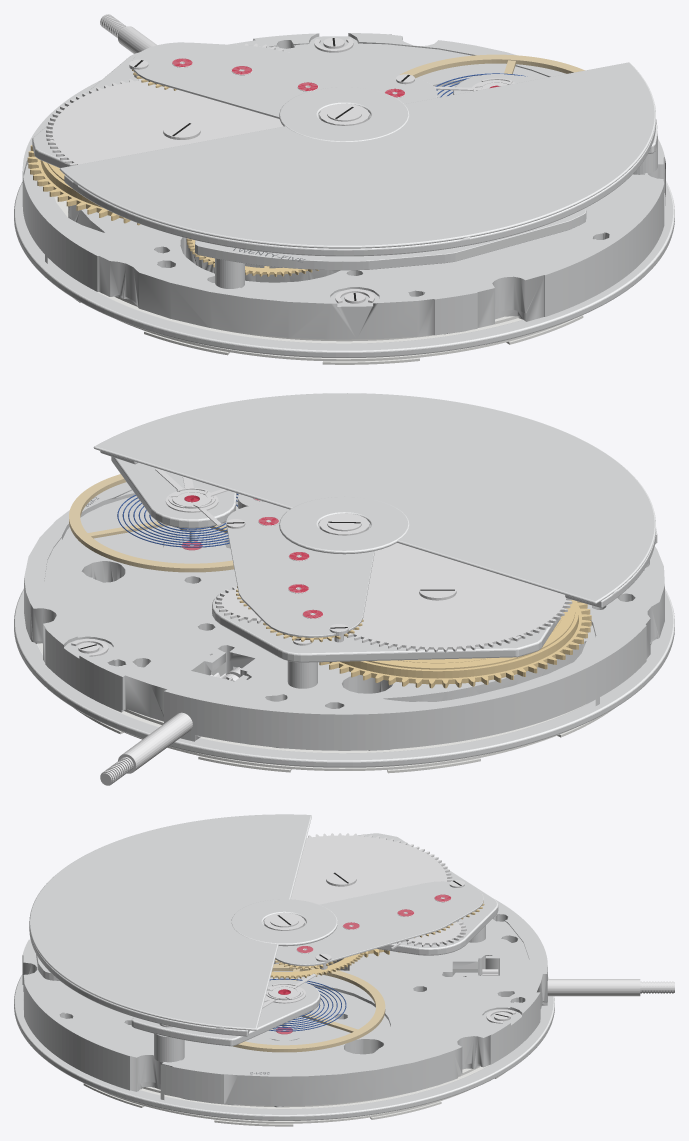
The model's file is eta-c07651-grande-date.glb.
3 views of the same model, one above another, from view 1: azimuth 30°, elevation 25°; view 2: azimuth 150°, elevation 25°; view 3: azimuth 270°, elevation 25° (orthographic). The views are drawn at different scales.
Visible parts, largest first — view 1: 31-1 Masse oscillante, 1 Platine, 25 Bâti du dispositif automatique, 42 Support de cadran, 20 Rochet, 13 Pont de rouage, GD-7 Disque des dizaines, 23 Balancier réglé avec piton, 14 Barillet complet (tambour), 16 Pont de barillet, GD-12 Disque des unités, 4 Tige de remontoir (+4 smaller); view 2: 31-1 Masse oscillante, 1 Platine, 20 Rochet, 25 Bâti du dispositif automatique, 42 Support de cadran, 16 Pont de barillet, 14 Barillet complet (tambour), 24-1 Pont de balancier, 23 Balancier réglé avec piton, GD-7 Disque des dizaines, 4 Tige de remontoir, 14 Couvercle de barillet (+4 smaller); view 3: 1 Platine, 31-1 Masse oscillante, 25 Bâti du dispositif automatique, 42 Support de cadran, 20 Rochet, 24-1 Pont de balancier, 23 Balancier réglé avec piton, 4 Tige de remontoir, 16 Pont de barillet, GD-7 Disque des dizaines, 23 Spiral, 19 Roue de couronne (+2 smaller).
Part boxes in pixels (x1,y1,x2,y2): 31-1 Masse oscillante: (59,62,656,256); 1 Platine: (22,33,665,339); 25 Bâti du dispositif automatique: (133,42,437,118); 42 Support de cadran: (14,181,674,357); 20 Rochet: (46,79,283,166); 13 Pont de rouage: (195,208,586,270); GD-7 Disque des dizaines: (98,292,570,361); 23 Balancier réglé avec piton: (400,54,584,78); 14 Barillet complet (tambour): (27,145,140,225); 16 Pont de barillet: (32,45,286,168); GD-12 Disque des unités: (75,299,583,364); 4 Tige de remontoir: (100,14,156,53); 31-1 Masse oscillante: (93,393,655,607); 1 Platine: (24,482,664,750); 20 Rochet: (347,543,572,652); 25 Bâti du dispositif automatique: (226,504,374,637); 42 Support de cadran: (14,589,674,767); 16 Pont de barillet: (212,586,564,662); 14 Barillet complet (tambour): (319,600,591,688); 24-1 Pont de balancier: (111,456,236,528); 23 Balancier réglé avec piton: (69,474,234,572); GD-7 Disque des dizaines: (38,642,651,770); 4 Tige de remontoir: (100,712,192,785); 14 Couvercle de barillet: (366,600,575,669); 1 Platine: (22,899,547,1107); 31-1 Masse oscillante: (29,814,337,1036); 25 Bâti du dispositif automatique: (263,881,483,966); 42 Support de cadran: (14,974,554,1120); 20 Rochet: (291,833,452,904); 24-1 Pont de balancier: (131,979,320,1046); 23 Balancier réglé avec piton: (233,964,385,1052); 4 Tige de remontoir: (547,979,674,996); 16 Pont de barillet: (357,833,498,955); GD-7 Disque des dizaines: (98,1065,489,1123); 23 Spiral: (269,978,346,1031); 19 Roue de couronne: (401,920,466,946).
Size of the model in its own units: 26.3 by 5.66 by 32.13.
